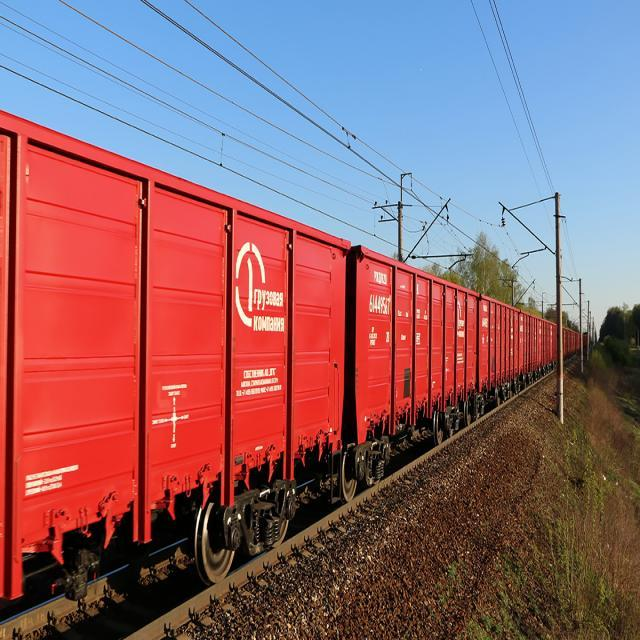wagon: (368, 290, 390, 318)
